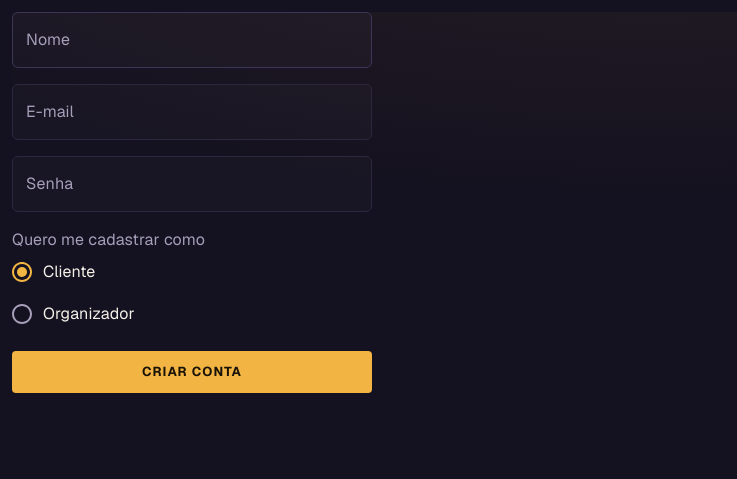
RegisterForm › shows validation errors for a short password
Type "1234567" into the password field labelled "Senha".
click(192, 184); type("1234567")  # box [12,156,372,212]
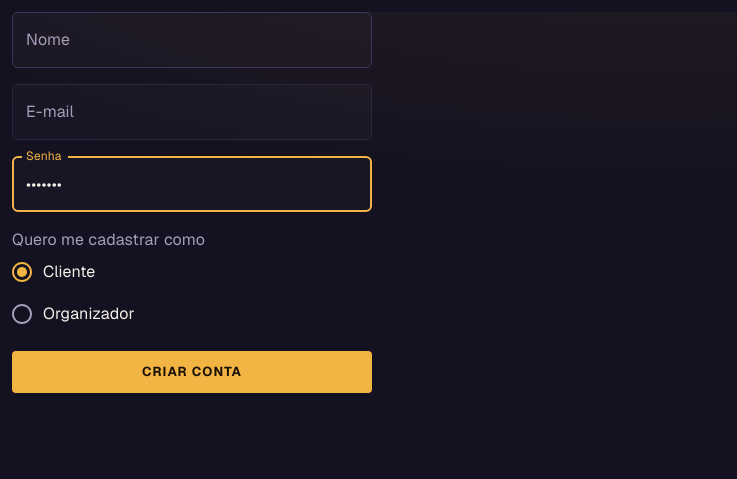
Click the button "Criar conta".
click(192, 372)  # box [12,351,372,393]
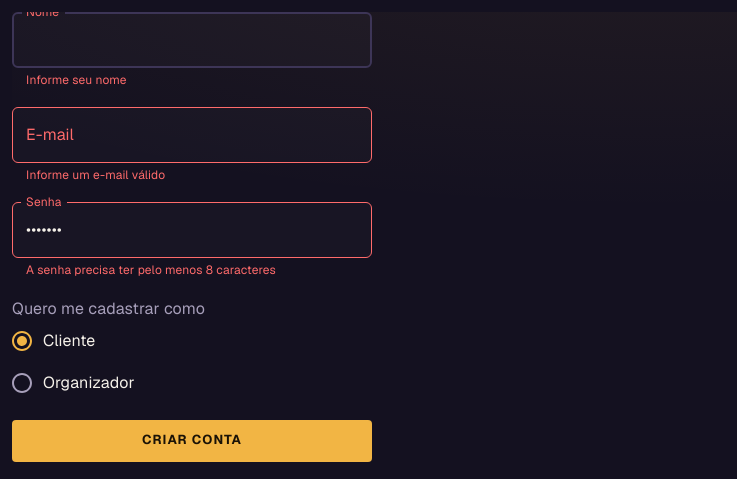
Now the text "A senha precisa ter pelo menos 8 caracteres" is shown, box [26,262,276,278]
